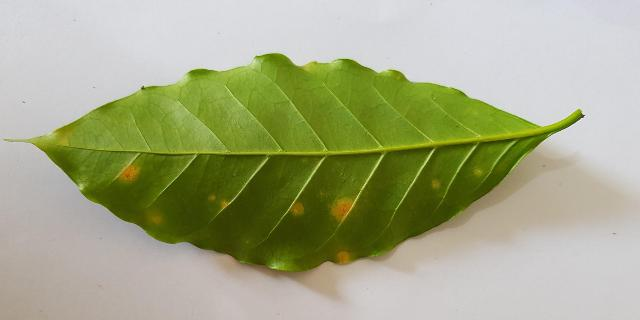miner: (331, 196, 359, 222), (118, 164, 140, 182), (334, 251, 354, 263), (290, 202, 303, 215), (148, 214, 161, 224), (221, 200, 231, 209), (432, 180, 439, 187), (209, 195, 215, 200)
